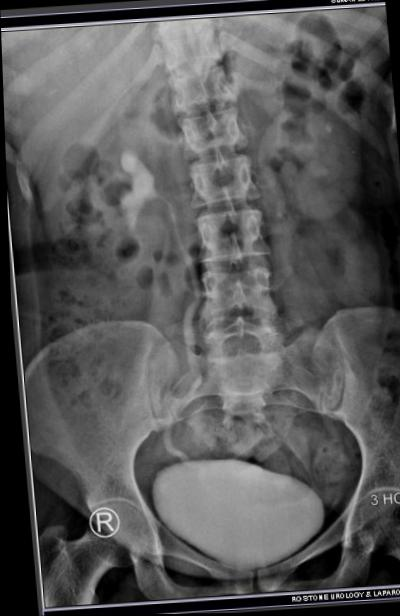bladder: (135, 455, 330, 588)
right kidney: (65, 122, 176, 293)
vertebrae: (172, 104, 252, 157)
